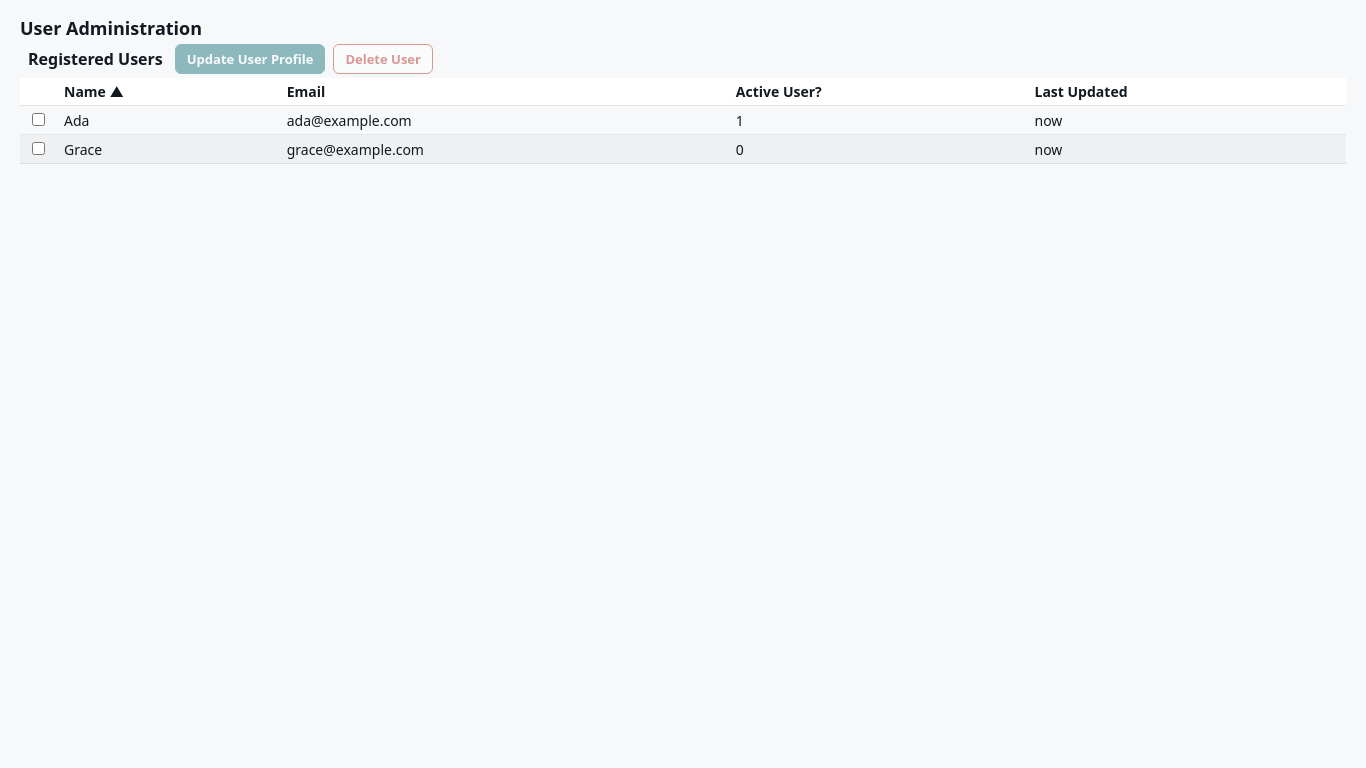
Scenario: the edit dialog › refuses to submit with no status chosen, and stays open
Expected: the text "ada@example.com" is shown, top-left (279, 106), bottom-right (728, 134)
Click the checkbox named "Select row 1": (38, 120) top-left (32, 113), bottom-right (45, 126)
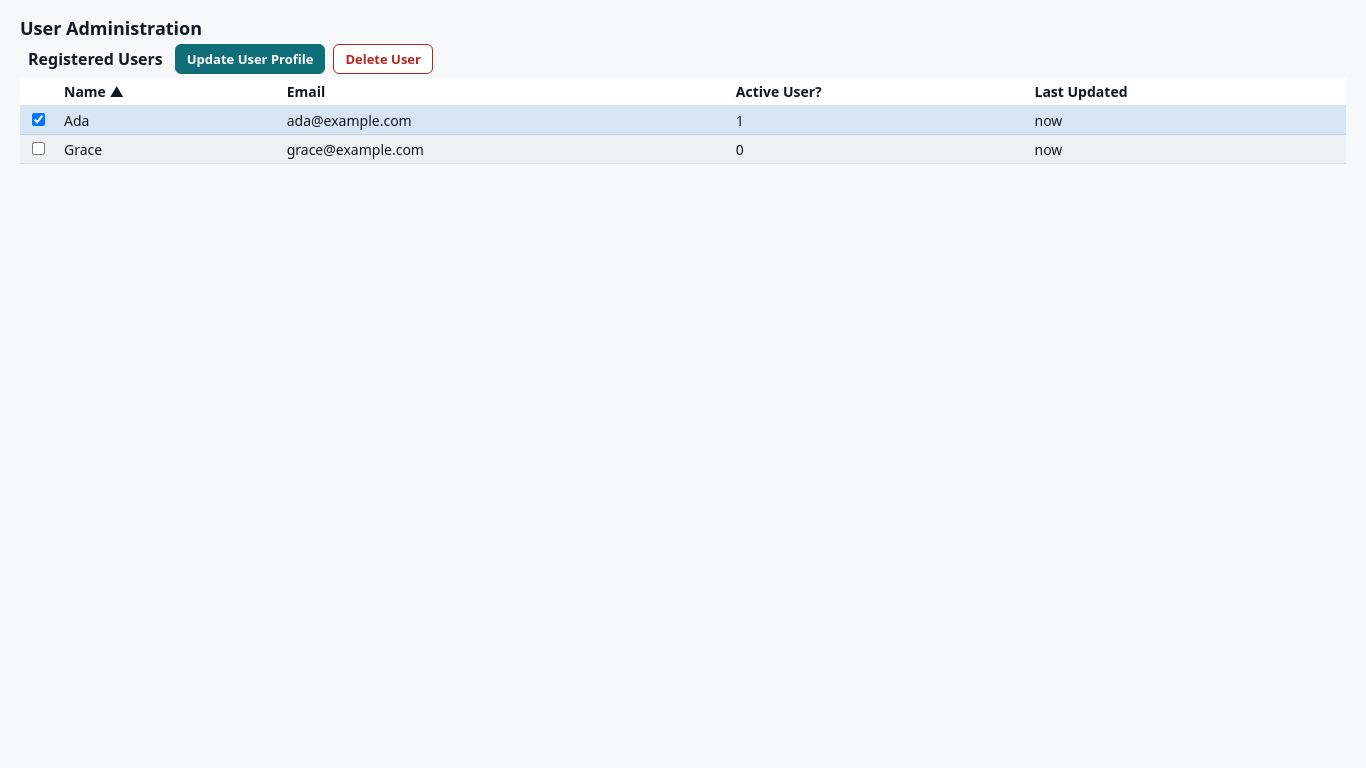
Expected: the checkbox named "Select row 1" is checked, top-left (32, 113), bottom-right (45, 126)
Expected: the button "Update User Profile" is enabled
Click the button "Update User Profile": (250, 59) top-left (175, 44), bottom-right (325, 74)
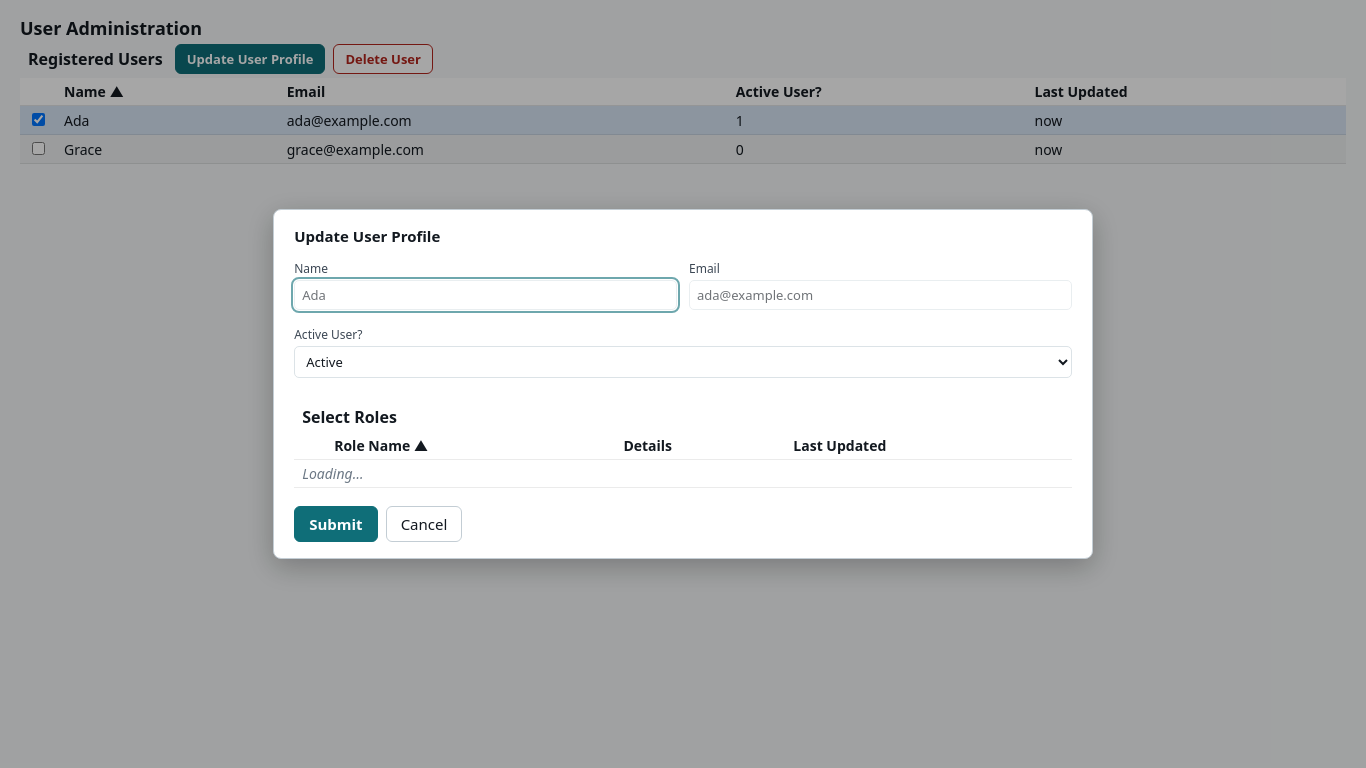
Select "Select User Status..." in the dropdown labelled "Active User?": (683, 362) top-left (294, 346), bottom-right (1072, 378)
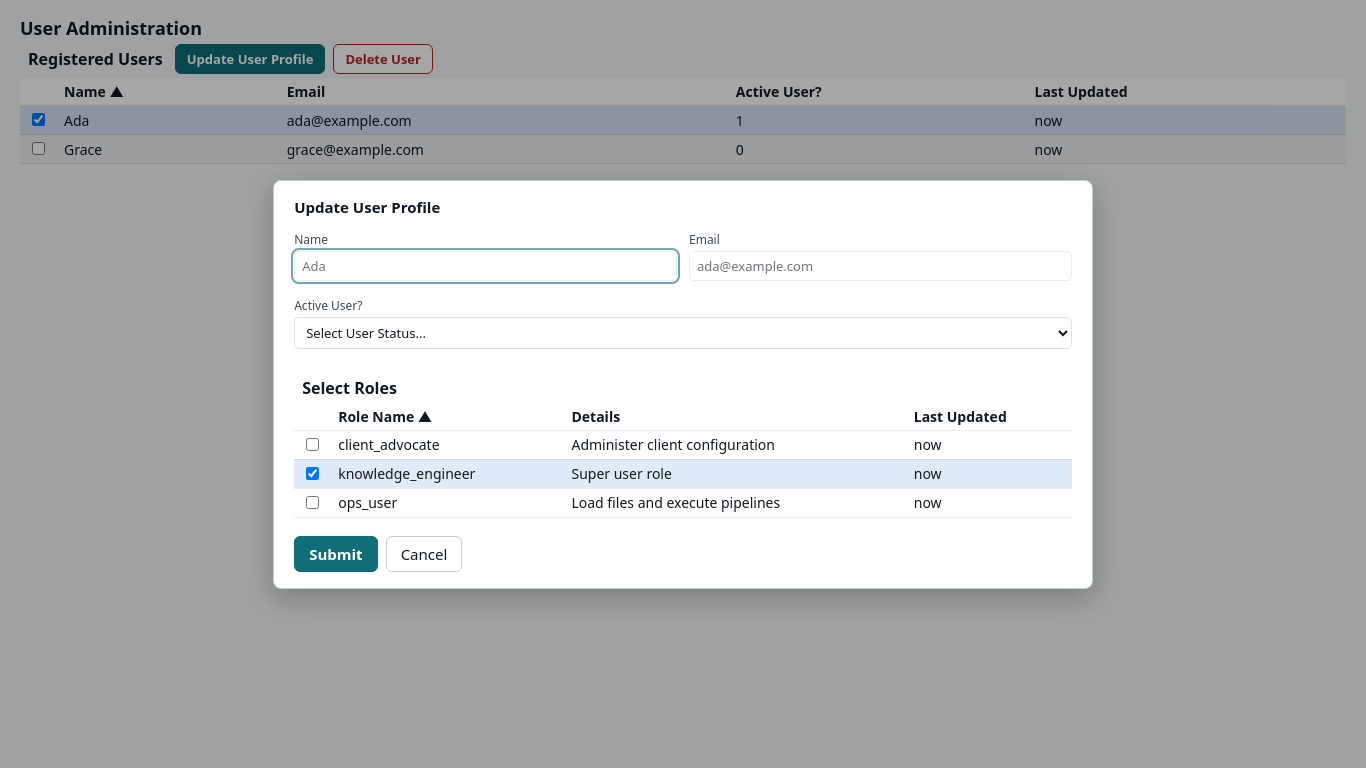
Click the button "Submit": (336, 554) top-left (294, 536), bottom-right (378, 572)
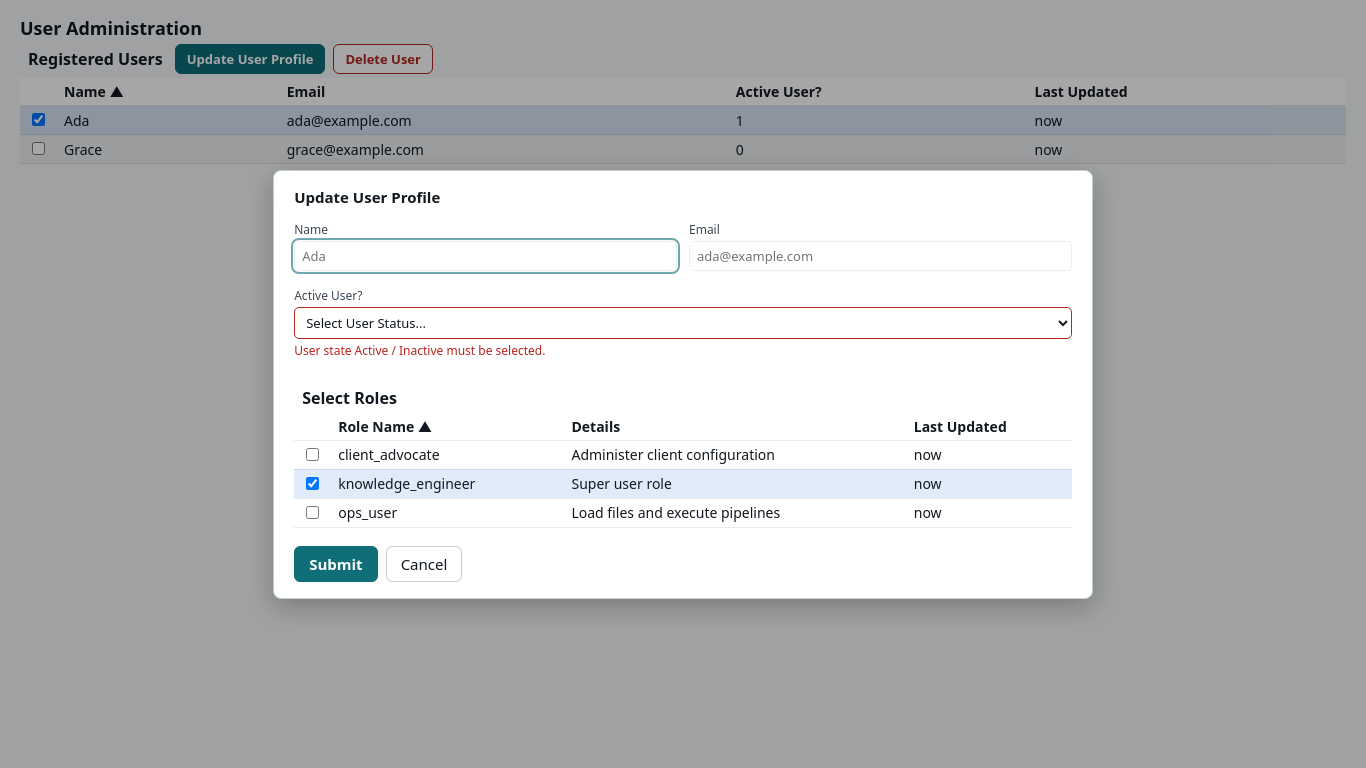
Expected: the dialog is shown, top-left (273, 170), bottom-right (1093, 598)
Expected: the text "User state Active / Inactive must be selected." is shown, top-left (294, 342), bottom-right (545, 358)
